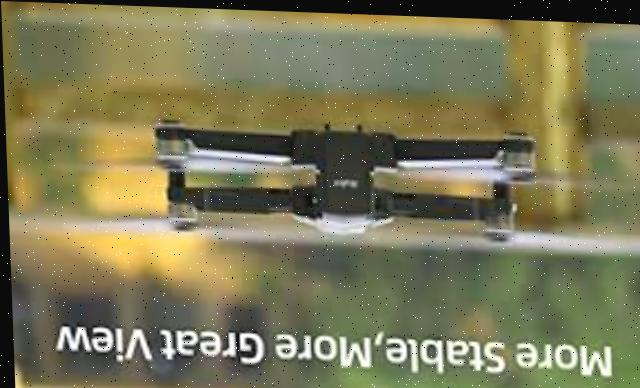drone: (65, 93, 595, 256)
